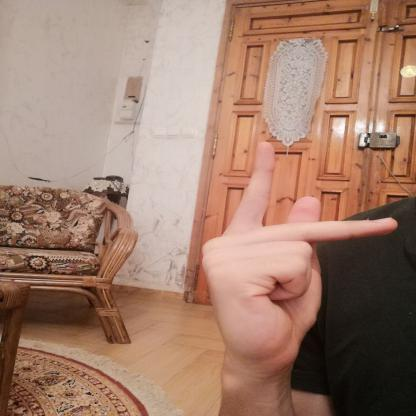DHAA: (186, 133, 405, 380)
